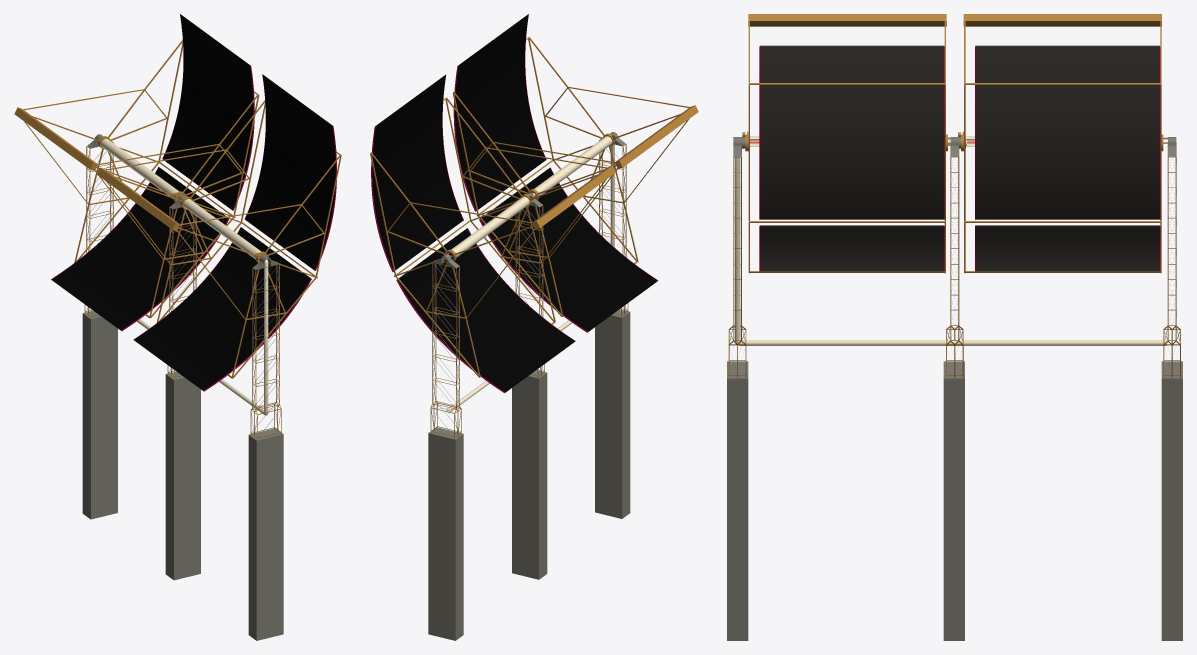
Rendered from Solar_Thermal_Mirror_Set_Side_Circuit.glb.
3 renders of one model, left to right at view 1: azimuth 30°, elevation 25°; view 2: azimuth 150°, elevation 25°; view 3: azimuth 270°, elevation 25°, orthographic. The views are drawn at different scales.
Visible parts, largest first — view 1: MirrorTower_LOD0, MirrorTowerFrame-colonly.003, MirrorTowerFrame-colonly.004, MirrorTowerFrame-colonly.005; view 2: MirrorTower_LOD0, MirrorTowerFrame-colonly.005, MirrorTowerFrame-colonly.004, MirrorTowerFrame-colonly.003; view 3: MirrorTower_LOD0, MirrorTowerFrame-colonly.003, MirrorTowerFrame-colonly.004, MirrorTowerFrame-colonly.005.
Part boxes in pixels (left/top/right/bottom): MirrorTower_LOD0: left=14, top=14, right=341, bottom=439; MirrorTowerFrame-colonly.003: left=248, top=428, right=283, bottom=640; MirrorTowerFrame-colonly.004: left=165, top=371, right=200, bottom=580; MirrorTowerFrame-colonly.005: left=82, top=310, right=117, bottom=519; MirrorTower_LOD0: left=370, top=14, right=698, bottom=438; MirrorTowerFrame-colonly.005: left=428, top=427, right=463, bottom=640; MirrorTowerFrame-colonly.004: left=512, top=370, right=547, bottom=579; MirrorTowerFrame-colonly.003: left=595, top=309, right=630, bottom=518; MirrorTower_LOD0: left=728, top=14, right=1180, bottom=377; MirrorTowerFrame-colonly.003: left=727, top=361, right=748, bottom=640; MirrorTowerFrame-colonly.004: left=943, top=361, right=964, bottom=640; MirrorTowerFrame-colonly.005: left=1161, top=361, right=1182, bottom=640.
Size of what is drawn, in the model's own units: 26.36 by 72.03 by 46.89.
